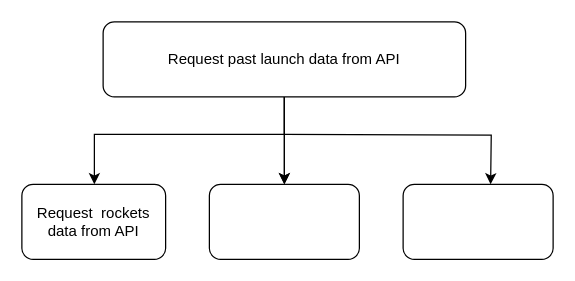
Some shapes in this 575 by 281 pixel diagram are drawn without their labels. Each missing label, with the centre of its shape:
"Request cores data from API" goes at (x=477, y=221).
"Request payload data from API" goes at (x=283, y=221).
